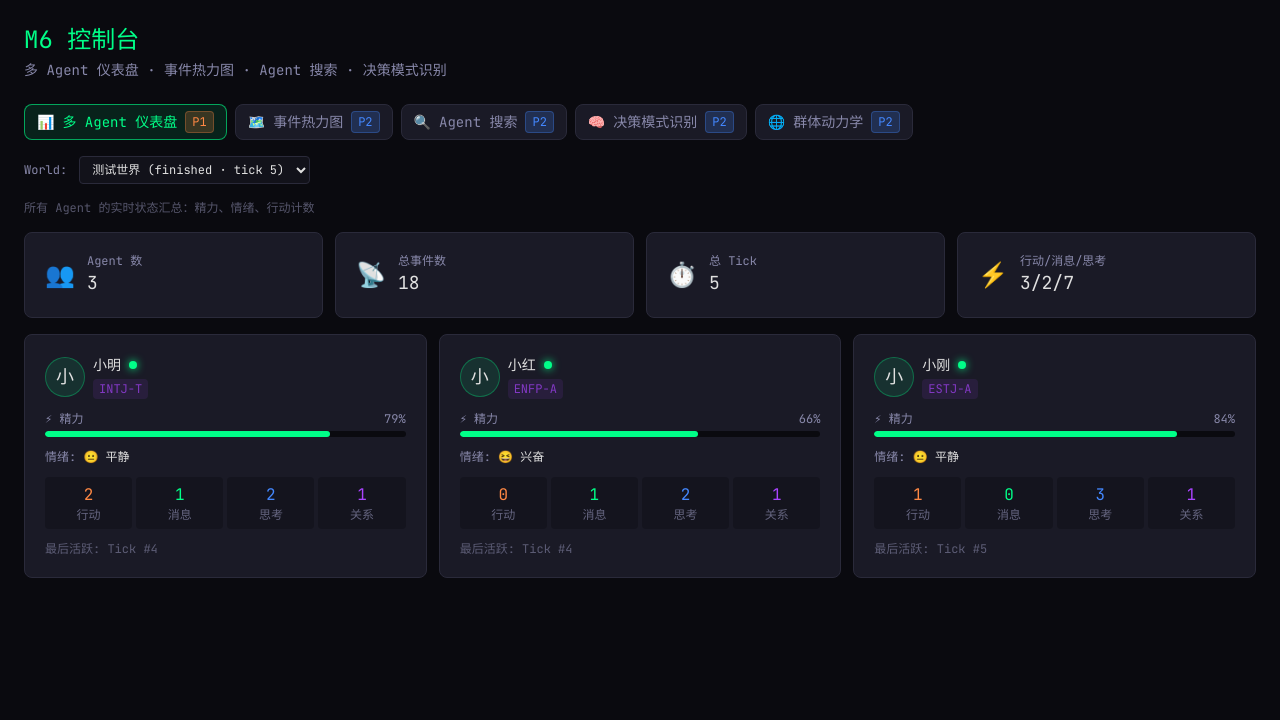
it: Step 24 ControlPanel — Tab 栏与切换 › switches to heatmap tab on click
The width and height of the screenshot is (1280, 720).
Click the button "🗺️ 事件热力图 P2": click(314, 122) [235,104,393,140]
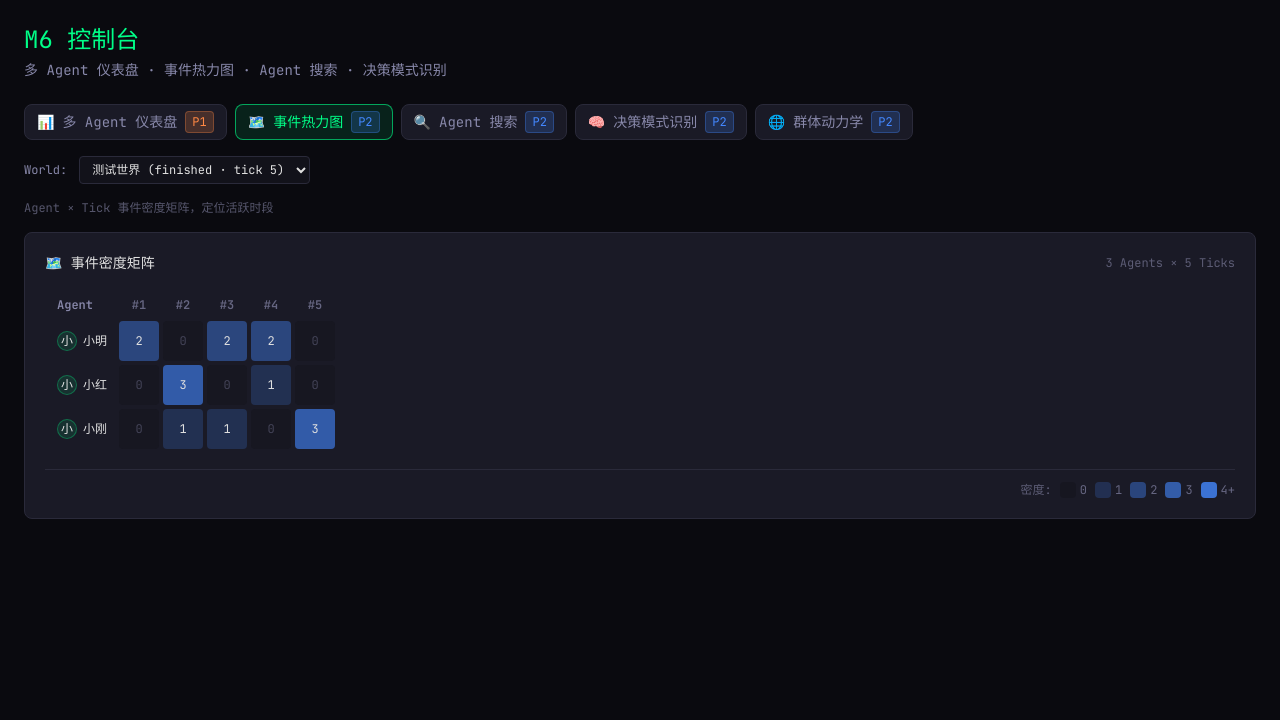
Now the heading "🗺️ 事件密度矩阵" is shown, box [45,253,155,273]
